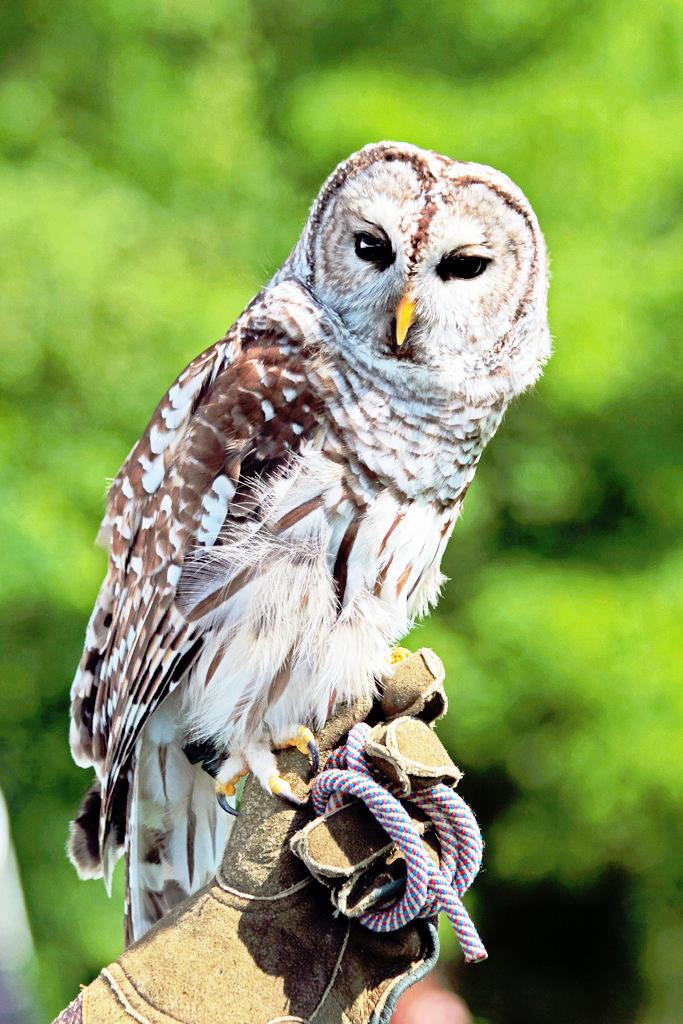Owl: (63, 143, 554, 949)
